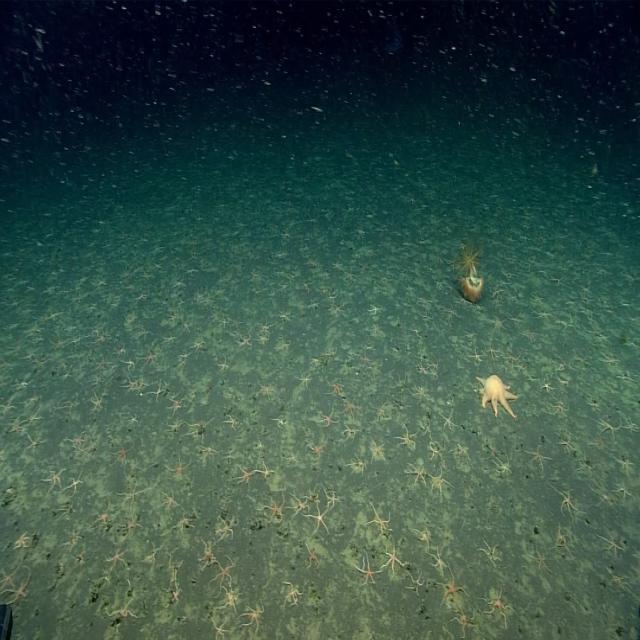brittle-stars: (439, 570, 467, 610), (4, 569, 32, 604), (485, 589, 514, 621), (261, 491, 286, 526), (554, 486, 580, 518), (117, 480, 144, 510), (368, 501, 392, 534), (356, 553, 380, 585), (106, 597, 137, 621), (242, 602, 264, 634), (213, 559, 234, 591), (590, 481, 614, 509), (454, 607, 477, 636), (381, 543, 403, 573), (524, 445, 549, 470), (613, 479, 637, 505), (167, 455, 190, 481), (110, 441, 134, 465), (311, 504, 329, 536), (481, 539, 502, 566), (200, 537, 216, 570), (601, 532, 623, 556), (282, 581, 302, 607), (430, 467, 449, 494), (43, 468, 64, 492), (317, 404, 338, 428), (120, 513, 140, 538), (216, 515, 235, 541), (596, 418, 622, 437), (405, 463, 427, 485), (397, 424, 417, 448), (64, 472, 84, 495), (530, 549, 549, 573), (591, 431, 610, 455), (368, 437, 386, 462), (555, 522, 571, 550), (0, 566, 17, 592), (220, 590, 242, 610), (187, 421, 209, 441), (159, 488, 178, 511), (212, 616, 230, 640), (105, 548, 126, 568), (288, 495, 308, 516), (236, 464, 255, 486), (256, 458, 274, 481), (407, 571, 425, 594), (95, 502, 112, 526), (615, 454, 635, 474), (347, 455, 367, 475), (24, 432, 45, 451), (176, 512, 194, 534), (429, 548, 447, 570), (166, 582, 183, 604), (324, 486, 340, 509), (494, 454, 512, 474), (549, 401, 570, 418), (198, 446, 220, 462), (412, 381, 428, 403), (13, 530, 30, 550), (69, 432, 86, 452), (222, 415, 242, 432), (326, 378, 343, 397), (343, 398, 360, 417), (440, 410, 456, 430), (90, 391, 105, 412), (558, 434, 575, 452), (167, 395, 183, 414), (308, 439, 324, 458), (343, 422, 358, 442), (151, 381, 165, 402), (258, 381, 275, 398), (142, 352, 158, 370), (416, 526, 430, 546), (307, 544, 318, 569), (600, 353, 620, 366), (623, 418, 639, 434), (453, 442, 469, 458), (26, 409, 41, 426), (296, 372, 311, 389), (485, 341, 499, 359), (419, 419, 432, 438), (504, 351, 520, 366), (491, 314, 506, 330), (255, 332, 270, 348), (540, 377, 554, 394), (237, 333, 252, 348), (136, 325, 150, 341), (259, 318, 273, 334), (166, 419, 183, 432), (488, 442, 500, 460), (122, 358, 137, 372), (536, 307, 551, 321), (368, 302, 383, 316), (343, 268, 358, 282), (360, 349, 371, 368), (52, 335, 65, 351), (181, 318, 193, 335), (429, 442, 441, 459), (217, 354, 228, 372), (469, 348, 483, 362), (507, 312, 521, 326), (550, 273, 564, 286), (418, 295, 432, 308), (191, 340, 206, 352), (163, 332, 176, 345), (173, 276, 185, 290), (416, 362, 428, 375), (532, 292, 543, 305), (128, 412, 138, 425), (332, 258, 342, 271), (255, 437, 264, 450), (429, 358, 438, 371), (274, 266, 282, 279), (430, 370, 440, 380)
